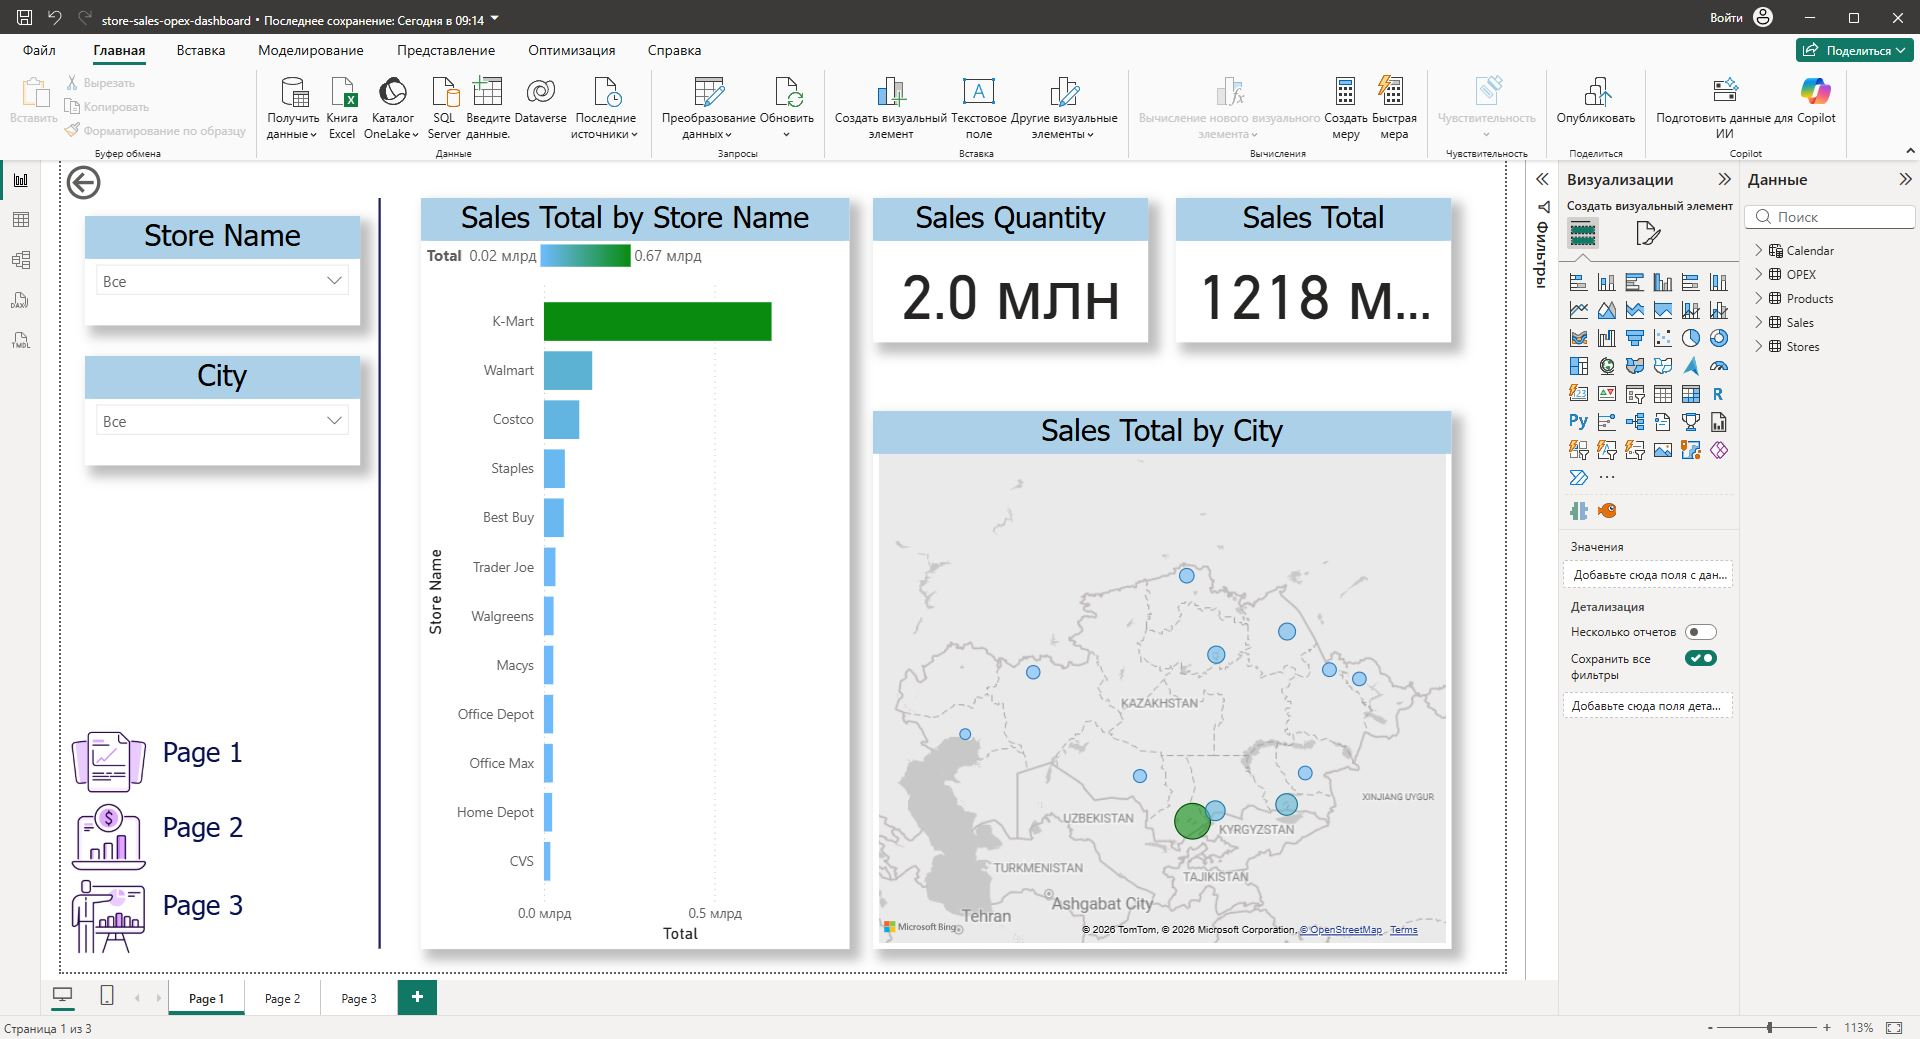

The dashboard page shown, as its layout file describes it:
{"tool":"powerbi","page":{"name":"Page 1","canvas":[1280,720],"ordinal":0},"visuals":[{"type":"card","title":"Sales Total","fields":{"Values":["Sum(Sales.Total)"]},"box":[988.6,33.9,244.4,128.3],"z":0},{"type":"card","title":"Sales Quantity","fields":{"Values":["Sum(Sales.Quantity)"]},"box":[720,33.9,244.4,128.3],"z":1000},{"type":"map","title":"Sales Total by City","fields":{"Size":["Sum(Sales.Total)"],"Y":["Stores.Latitude"],"X":["Stores.Longitude"]},"box":[720,222.7,513.1,476.8],"z":2000},{"type":"slicer","title":"Store Name","fields":{"Values":["Stores.Store Name"]},"box":[21.8,171.8,244.4,96.8],"z":3000},{"type":"slicer","title":"City","fields":{"Values":["Stores.City"]},"box":[21.8,298.9,244.4,96.8],"z":4000},{"type":"barChart","title":"Sales Total by Store Name","fields":{"Category":["Stores.Store Name"],"Y":["Sum(Sales.Total)"]},"box":[319.5,33.9,380,665.5],"z":5000},{"type":"shape","box":[245.6,33.9,73.8,665.5],"z":6000},{"type":"image","box":[4.8,20.6,159.7,128.3],"z":7000},{"type":"textbox","box":[50.8,84.7,254.1,87.1],"z":8000},{"type":"actionButton","box":[0,0,100,40],"z":9000},{"type":"image","box":[4.8,493.7,76.2,79.9],"z":10000},{"type":"image","box":[4.8,631.7,75,79.9],"z":11000},{"type":"image","box":[4.8,560.3,76.2,79.9],"z":12000},{"type":"textbox","box":[84.7,504.6,130.7,56.9],"z":13000},{"type":"textbox","box":[84.7,571.2,130.7,56.9],"z":14000},{"type":"textbox","box":[84.7,640.1,130.7,56.9],"z":15000}]}

Visuals, with their boxes on the page's 1280x720 design canvas (x1, y1, x2, y2). These are canvas units, not pixel positions in the 1920x1039 screenshot, which may show the page scaled, cropped or inside an application window:
"Sales Total" card: left=989, top=34, right=1233, bottom=162
"Sales Quantity" card: left=720, top=34, right=964, bottom=162
"Sales Total by City" map: left=720, top=223, right=1233, bottom=700
"Store Name" slicer: left=22, top=172, right=266, bottom=269
"City" slicer: left=22, top=299, right=266, bottom=396
"Sales Total by Store Name" barChart: left=320, top=34, right=700, bottom=699
shape: left=246, top=34, right=319, bottom=699
image: left=5, top=21, right=164, bottom=149
textbox: left=51, top=85, right=305, bottom=172
actionButton: left=0, top=0, right=100, bottom=40
image: left=5, top=494, right=81, bottom=574
image: left=5, top=632, right=80, bottom=712
image: left=5, top=560, right=81, bottom=640
textbox: left=85, top=505, right=215, bottom=562
textbox: left=85, top=571, right=215, bottom=628
textbox: left=85, top=640, right=215, bottom=697
